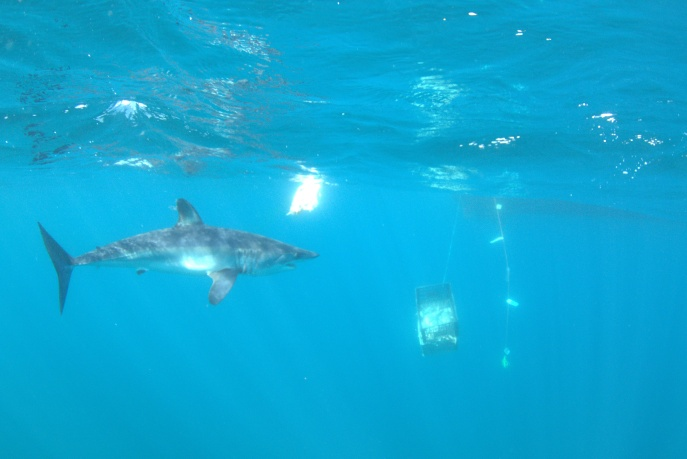Mako: (31, 192, 327, 322)
